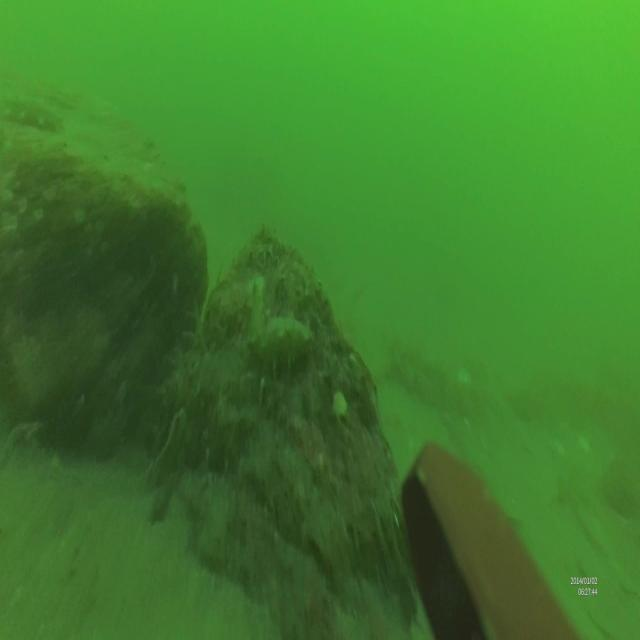holothurian: (242, 284, 310, 368), (2, 90, 64, 136)
